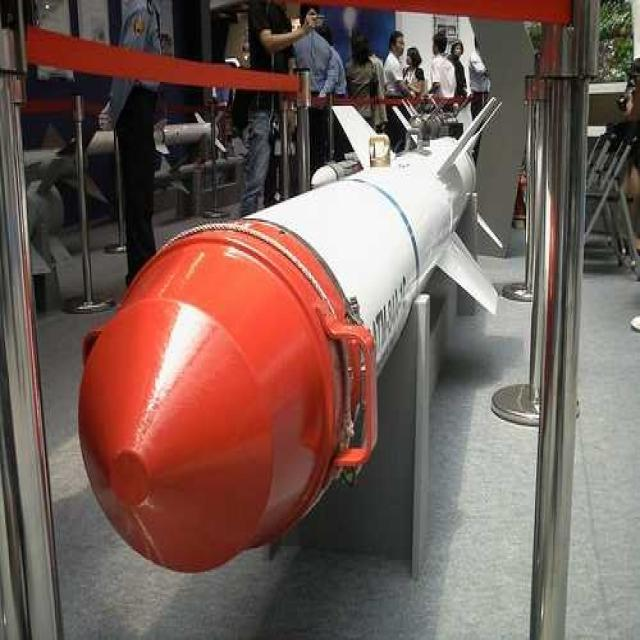missile: (76, 100, 501, 574)
